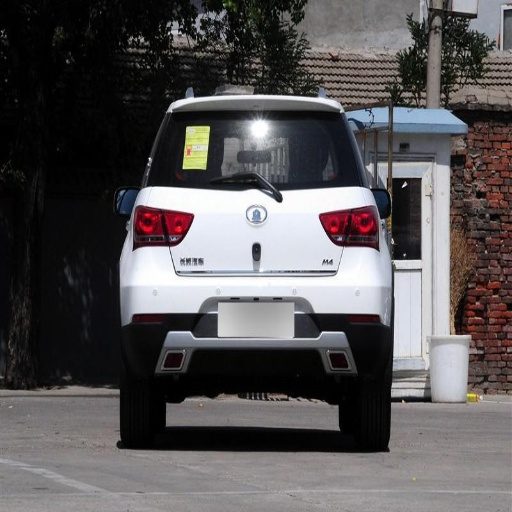back_bumper: (113, 246, 397, 376)
trunk: (143, 188, 377, 277)
